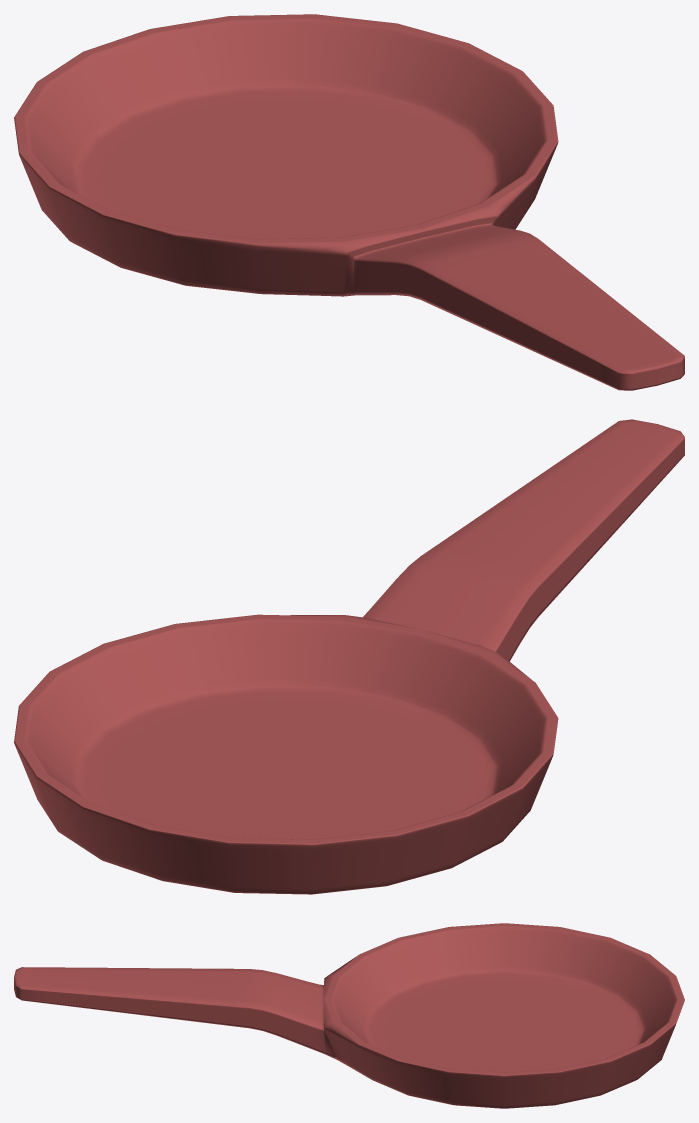
File: Skillet.fbx
3 views of the same model, one above another, from view 1: azimuth 30°, elevation 25°; view 2: azimuth 150°, elevation 25°; view 3: azimuth 270°, elevation 25° (orthographic). The views are drawn at different scales.
Parts seen in each view (by area): view 1: Skillet; view 2: Skillet; view 3: Skillet.
Boxes of the visible parts, box(x1,y1,x2,y2) form: Skillet: box(14, 14, 684, 390); Skillet: box(14, 419, 684, 894); Skillet: box(14, 923, 684, 1108).
Size of the model in its own units: 1.05 by 0.2028 by 1.95.
